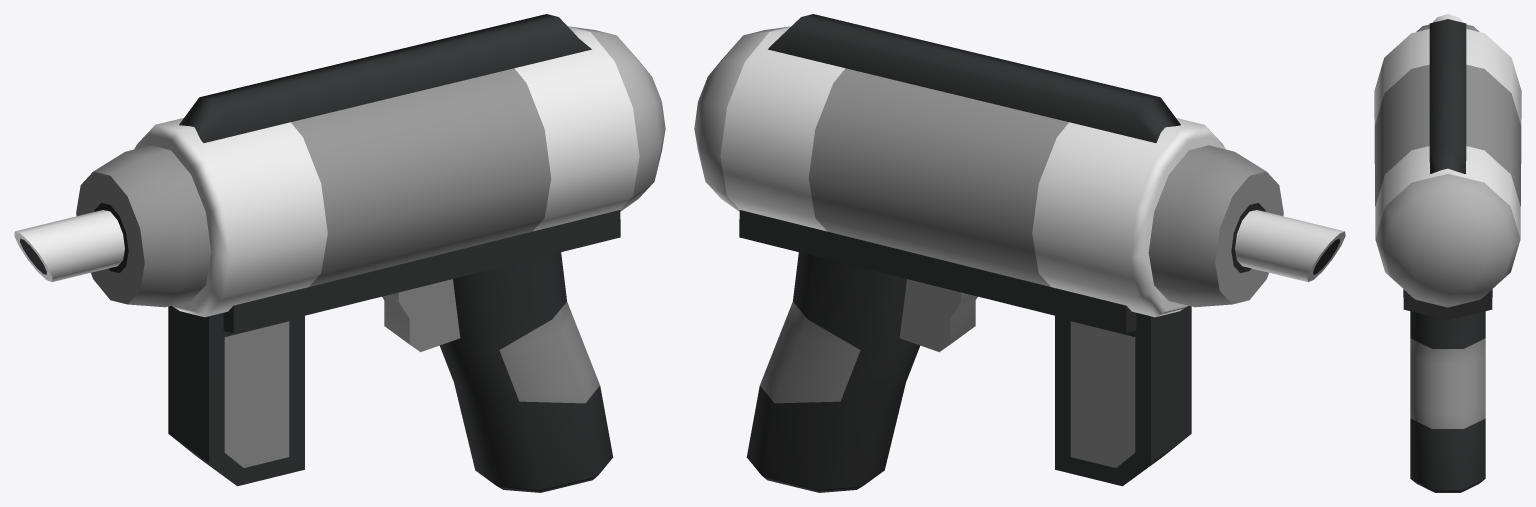
The model's file is Gun_002.fbx.
The picture shows the model from 3 angles, left to right: view 1: azimuth 30°, elevation 25°; view 2: azimuth 150°, elevation 25°; view 3: azimuth 270°, elevation 25°; orthographic projection. The views are drawn at different scales.
Parts seen in each view (by area): view 1: Gun_002; view 2: Gun_002; view 3: Gun_002.
Part boxes in pixels (<box>): Gun_002: <box>14,14,665,492</box>; Gun_002: <box>694,14,1345,492</box>; Gun_002: <box>1374,14,1521,492</box>.
Size of the model in its own units: 34.66 by 9.54 by 23.92.
